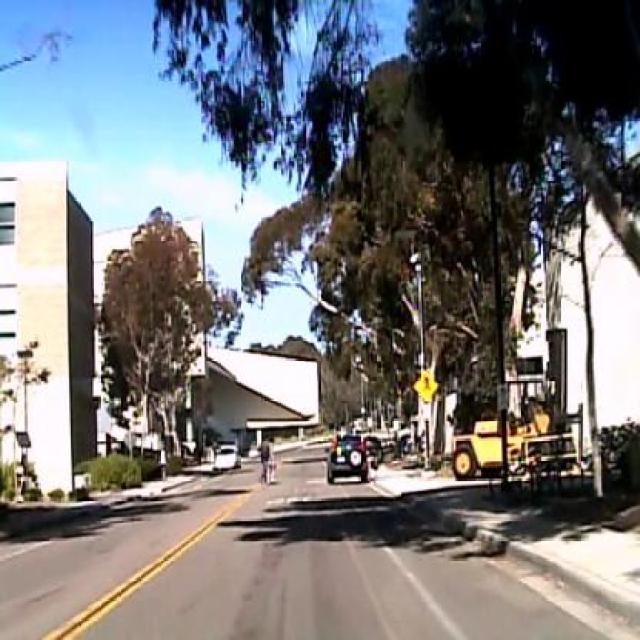pedestrianCrossing: (414, 368, 438, 402)
